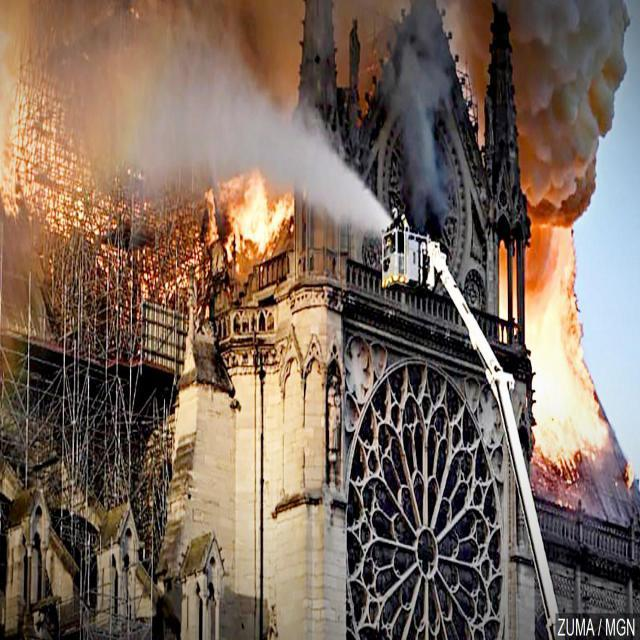Fire: (89, 52, 310, 308), (496, 134, 614, 471)
